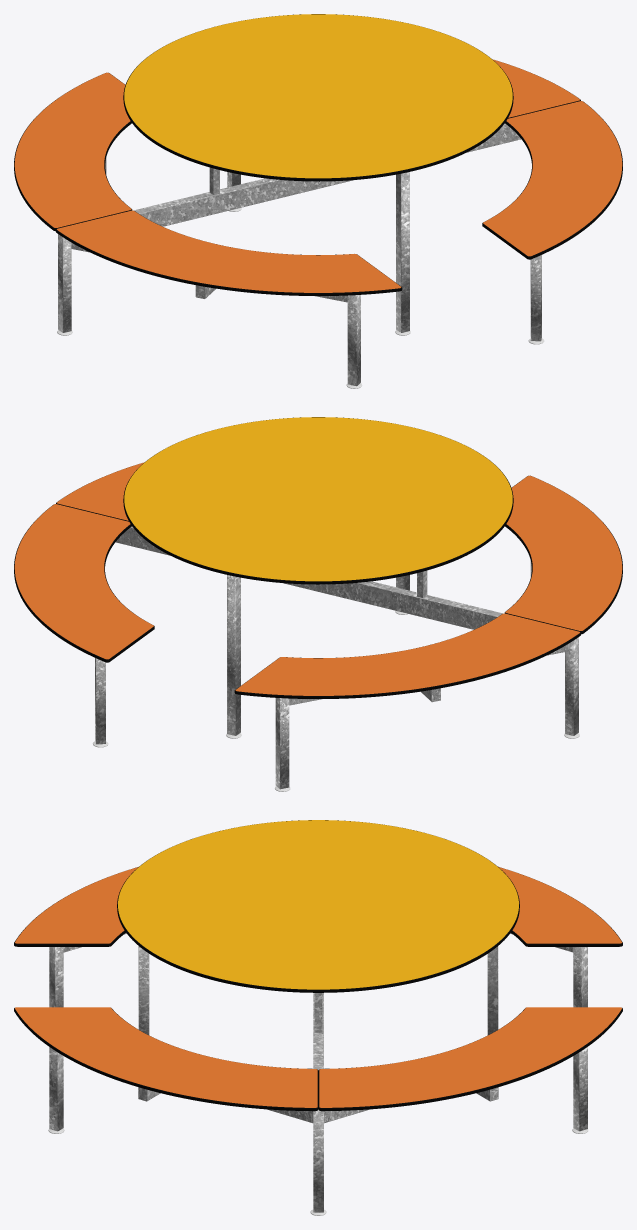
Rendered from kreis-team.glb.
3 views of the same model, one above another, from view 1: azimuth 30°, elevation 25°; view 2: azimuth 150°, elevation 25°; view 3: azimuth 270°, elevation 25° (orthographic). The views are drawn at different scales.
Visible parts, largest first — view 1: Tischplatte, Sitzplatte, Gestell, Solid.015, Solid.014, Solid.009, Solid.013; view 2: Tischplatte, Sitzplatte, Gestell, Solid.015, Solid.013, Solid.010, Solid.014; view 3: Tischplatte, Sitzplatte, Gestell, Solid.015, Solid.009, Solid.010.
Boxes of the visible parts, box(x1,y1,x2,y2) form: Tischplatte: box(124, 14, 512, 178); Sitzplatte: box(14, 59, 622, 292); Gestell: box(58, 123, 541, 386); Solid.015: box(123, 14, 513, 181); Solid.014: box(56, 211, 402, 295); Solid.009: box(482, 101, 622, 259); Solid.013: box(14, 72, 132, 231); Tischplatte: box(124, 417, 512, 581); Sitzplatte: box(14, 462, 622, 695); Gestell: box(95, 526, 578, 789); Solid.015: box(123, 417, 513, 584); Solid.013: box(234, 614, 580, 698); Solid.010: box(14, 504, 154, 662); Solid.014: box(504, 475, 622, 634); Tischplatte: box(118, 820, 518, 989); Sitzplatte: box(15, 867, 621, 1107); Gestell: box(49, 933, 587, 1212); Solid.015: box(117, 820, 519, 992); Solid.009: box(14, 1008, 318, 1111); Solid.010: box(318, 1008, 622, 1111).
Size of the model in its own units: 2.34 by 0.74 by 2.27.
5 materials, 1 textured.
